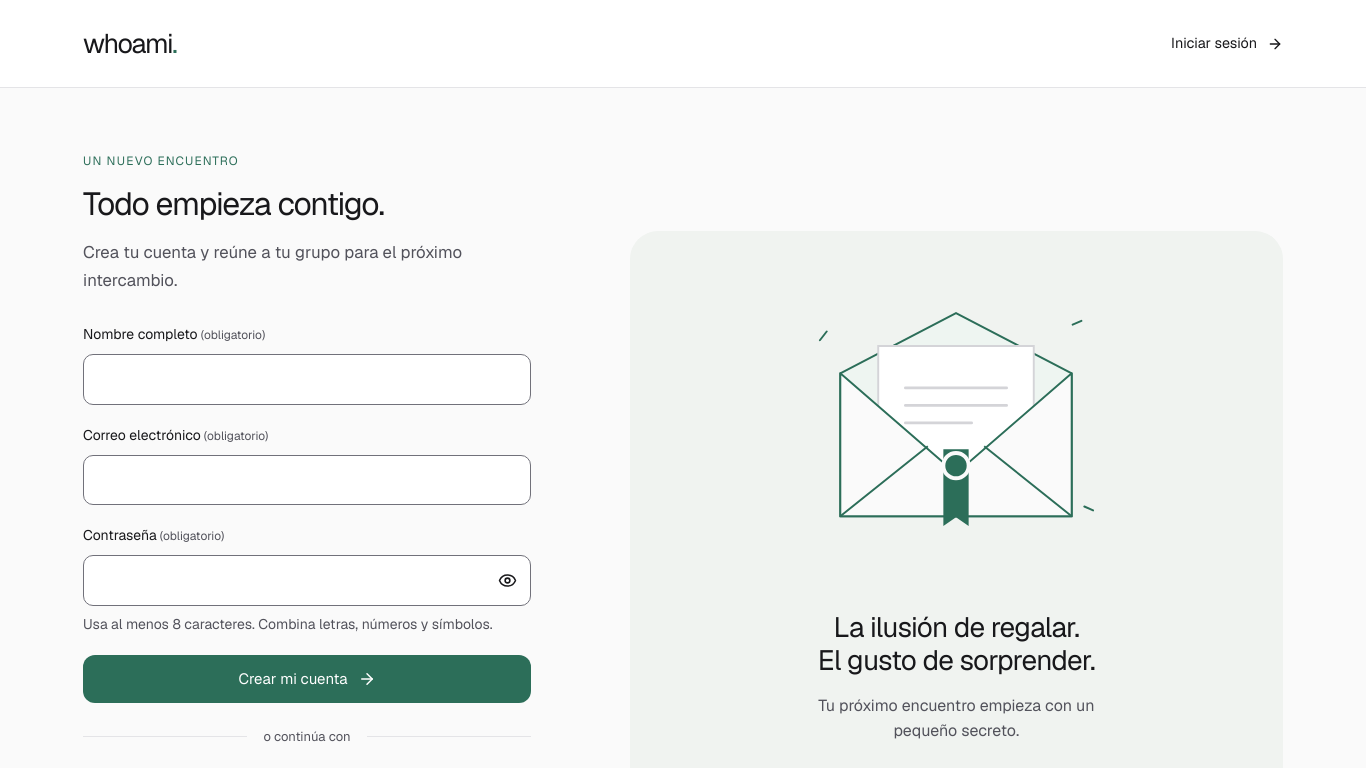
Test case: Acceso e invitaciones › el registro sin sesión muestra confirmación, sin afirmar que ya inició sesión
Type "Lucía Vargas" into the field labelled "Nombre completo (obligatorio)" at (307, 380), box [83,354,531,405]
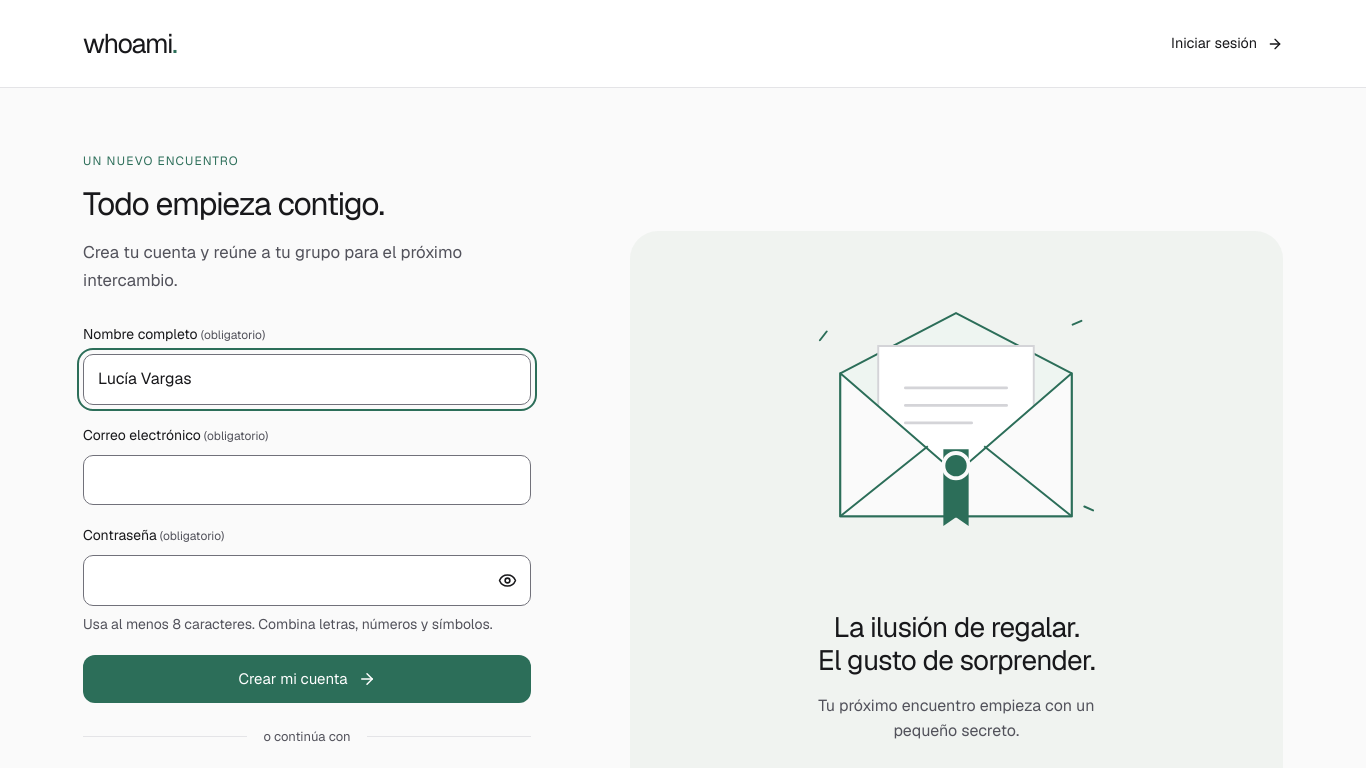
Type "lucia@example.test" into the field labelled "Correo electrónico (obligatorio)" at (307, 480), box [83,455,531,505]
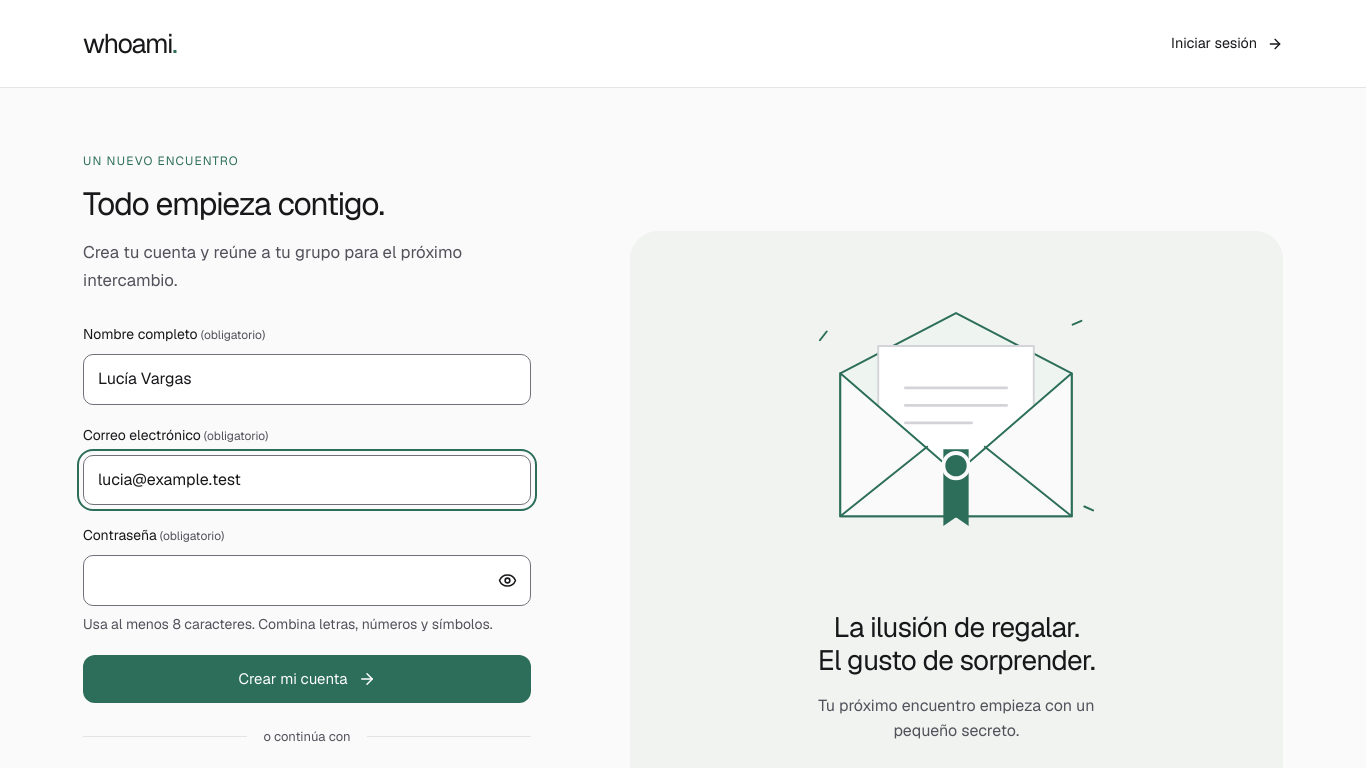
Type "Clave-local-123" into the password field labelled "Contraseña (obligatorio)" at (307, 580), box [83,555,531,606]
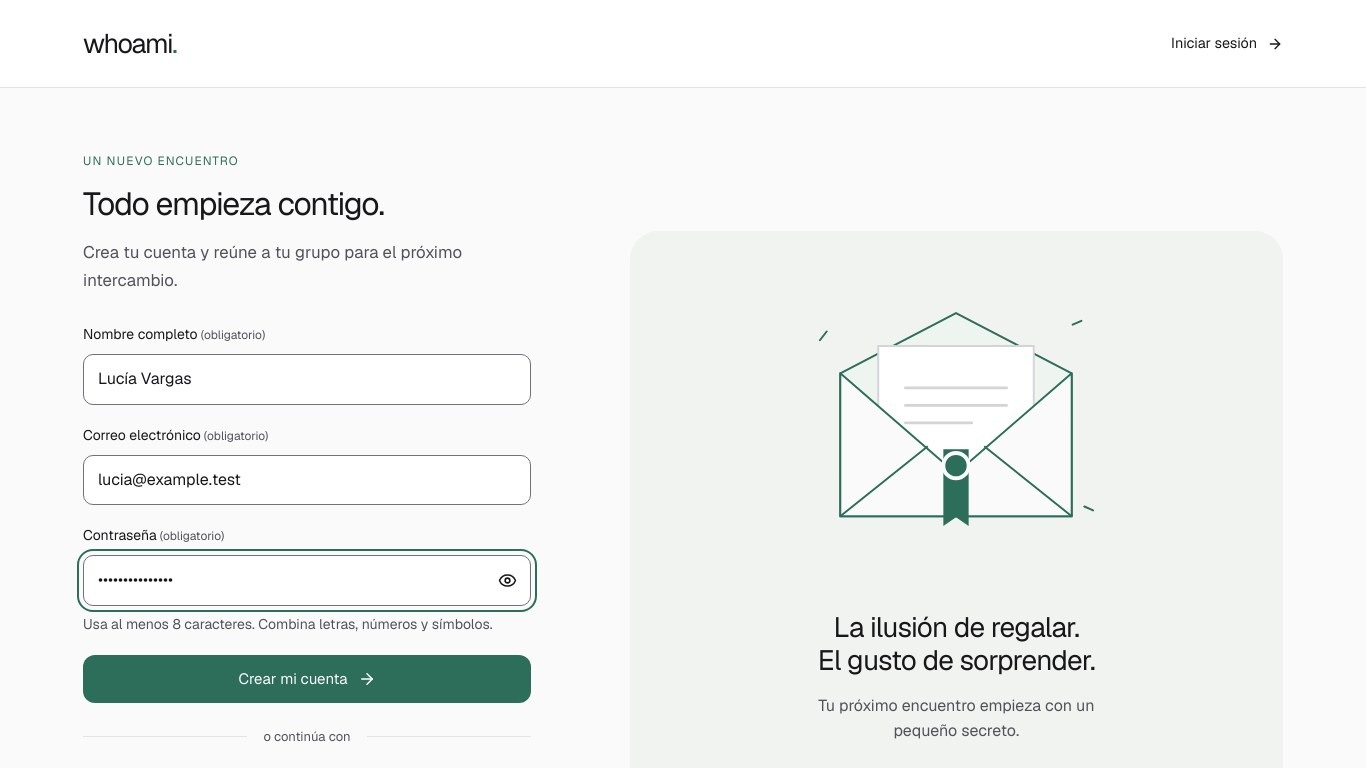
Click the button "Crear mi cuenta" at (307, 679), box [83,655,531,703]
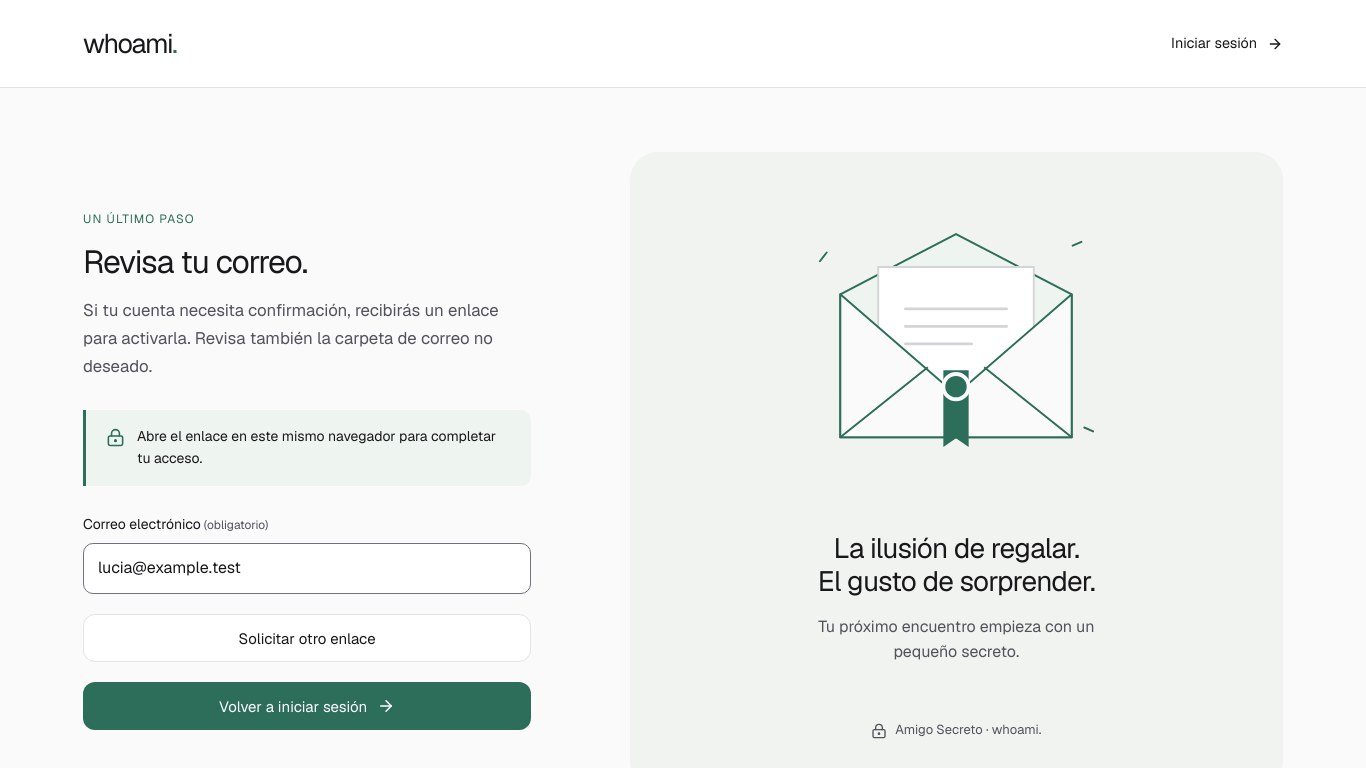
Expected: the heading "Revisa tu correo." is shown, [83,241,307,282]
